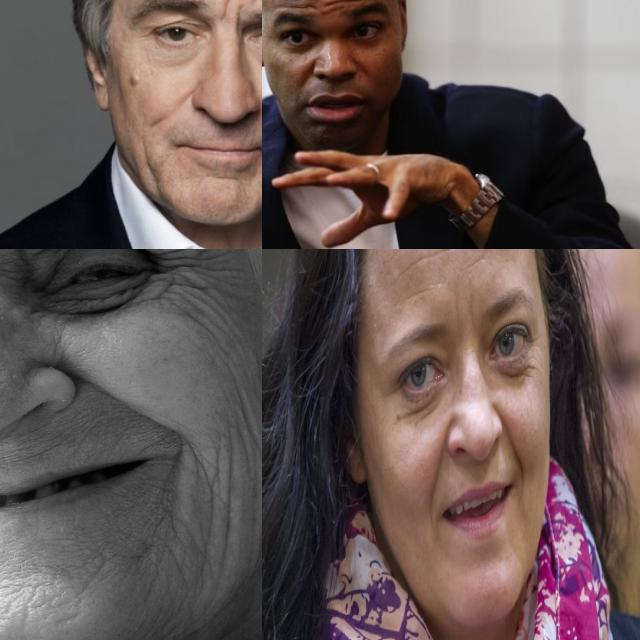chin: (162, 512, 195, 566)
crows_feet: (153, 249, 203, 299), (530, 333, 542, 350)
forehead: (396, 252, 439, 278), (403, 281, 432, 304), (462, 253, 488, 273), (285, 1, 319, 15), (320, 0, 341, 16), (347, 0, 384, 3)
frown_line: (450, 297, 480, 340), (216, 0, 237, 23)
gummy_smile: (86, 376, 162, 424), (498, 412, 524, 476), (430, 425, 448, 497)
masseter: (212, 464, 245, 550), (228, 381, 262, 451), (138, 144, 160, 190)
sad_smile: (172, 425, 206, 485)
